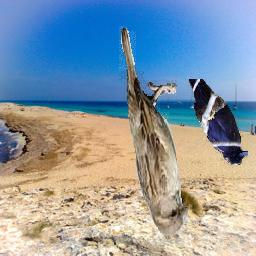Crow: (188, 79, 248, 165)
Sparrow: (120, 27, 189, 236)
